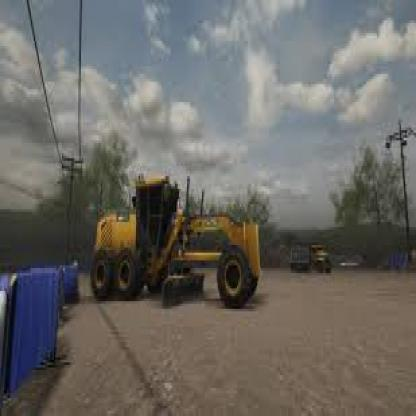bull_dozer/loader/grader: (89, 163, 269, 324)
